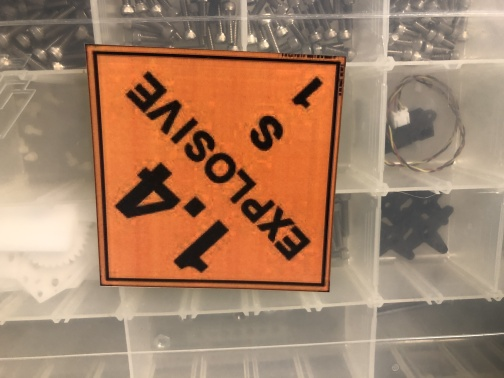Explosive: (86, 43, 348, 293)
